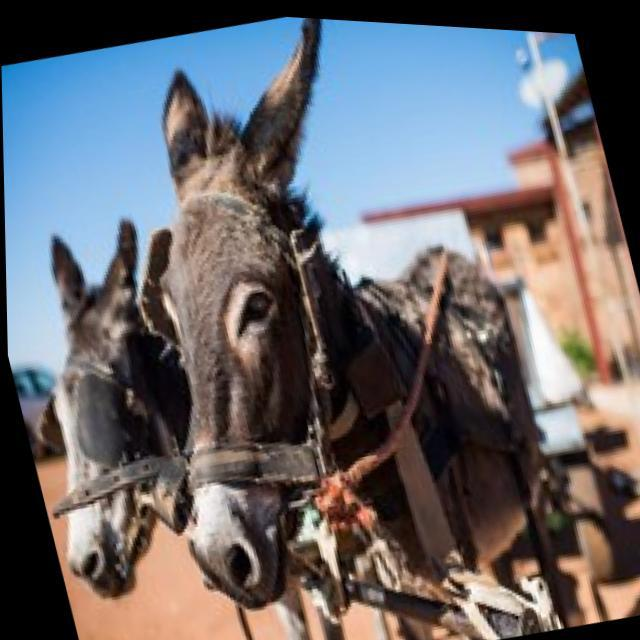Donkey: (67, 3, 592, 640), (3, 162, 436, 640)
